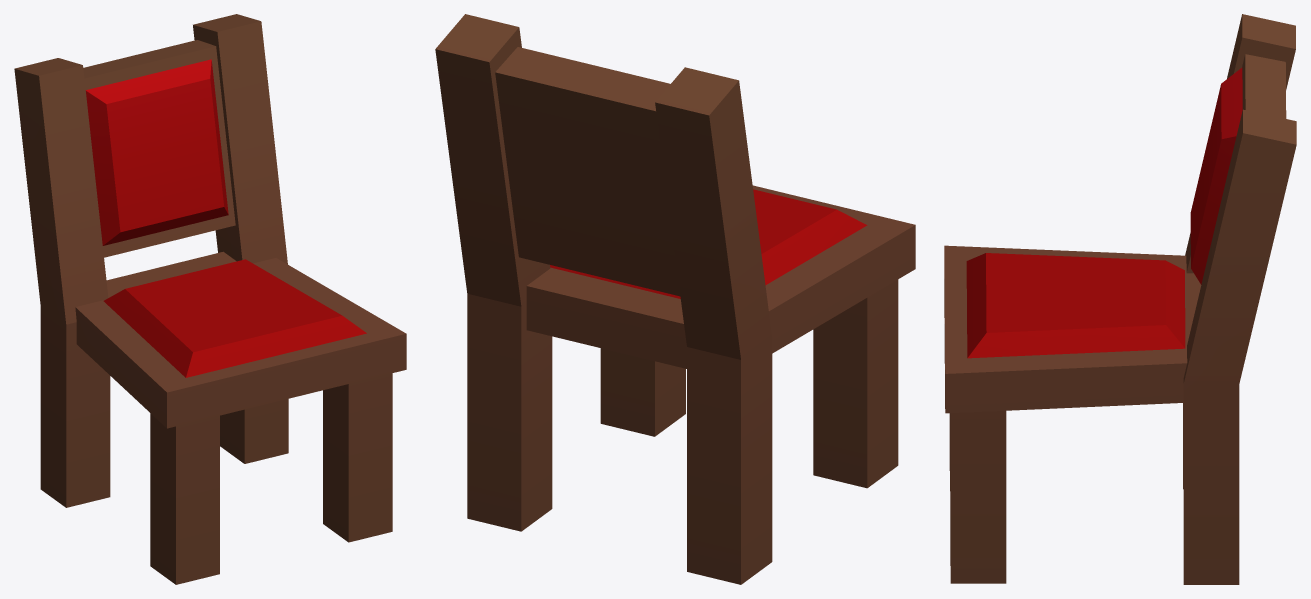
Rendered from chair.fbx.
The picture shows the model from 3 angles, left to right: view 1: azimuth 30°, elevation 25°; view 2: azimuth 150°, elevation 25°; view 3: azimuth 270°, elevation 25°; orthographic projection. The views are drawn at different scales.
Visible parts, largest first — view 1: chair; view 2: chair; view 3: chair.
Boxes of the visible parts, x1,y1,x2,y2 form: chair: (14,14,406,584); chair: (435,14,915,584); chair: (944,14,1296,584).
Bounding box in the file's own units: 55.43 × 91 × 64.34.
Materials: 1 (1 with a texture image).
